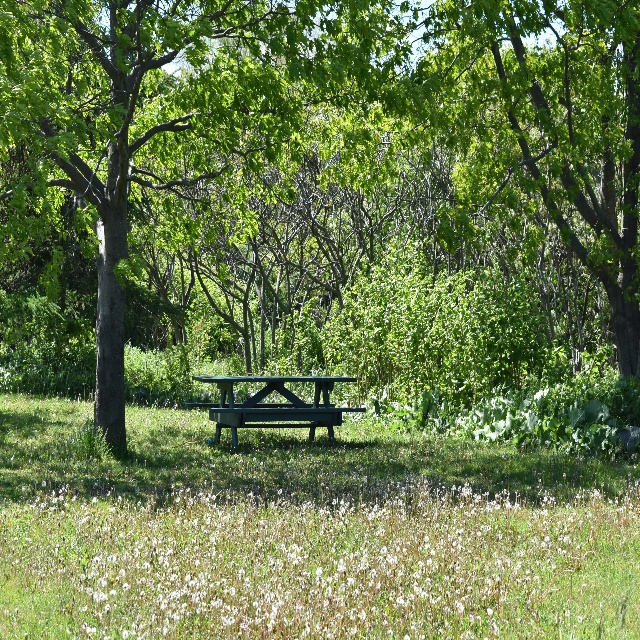obstacle: (193, 375, 365, 448)
